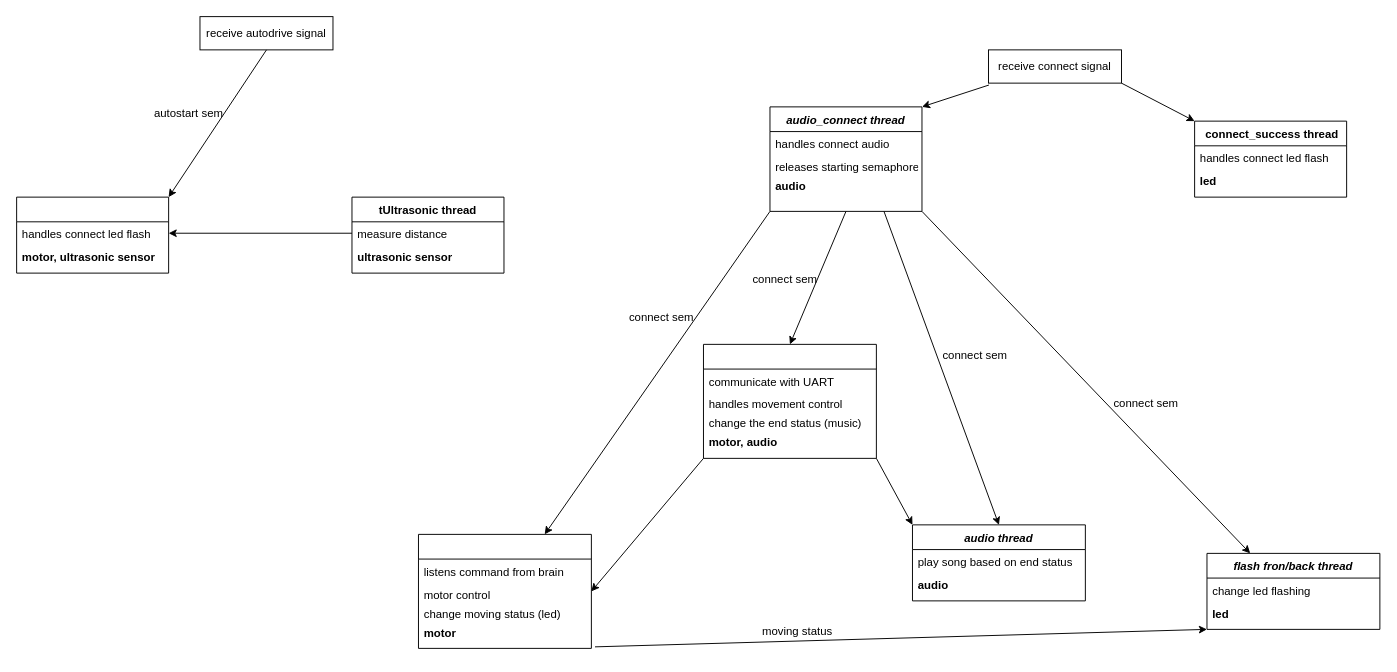
This 1397x672 diagram has some shape labels left out. Here are the shapes that lost their labels. From the top down, the box of each, then its label:
(16, 196, 169, 273): autodrive thread
(703, 343, 876, 458): brain thread
(418, 533, 591, 648): motor thread
